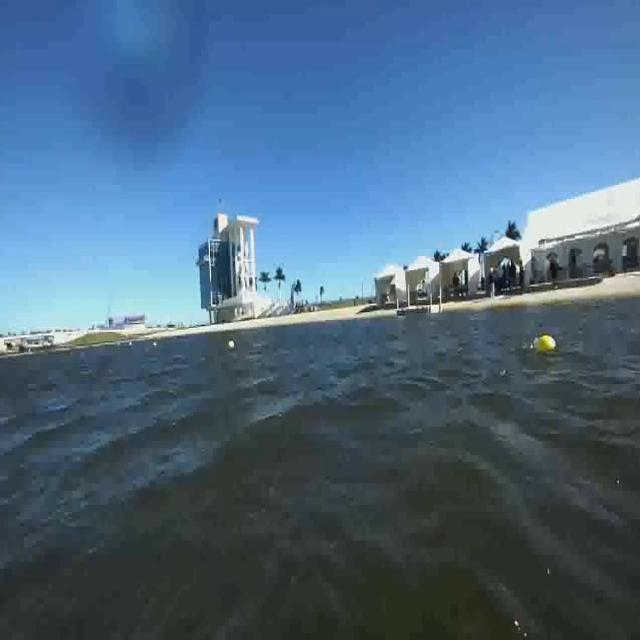yellow-buoy: (536, 336, 556, 352)
